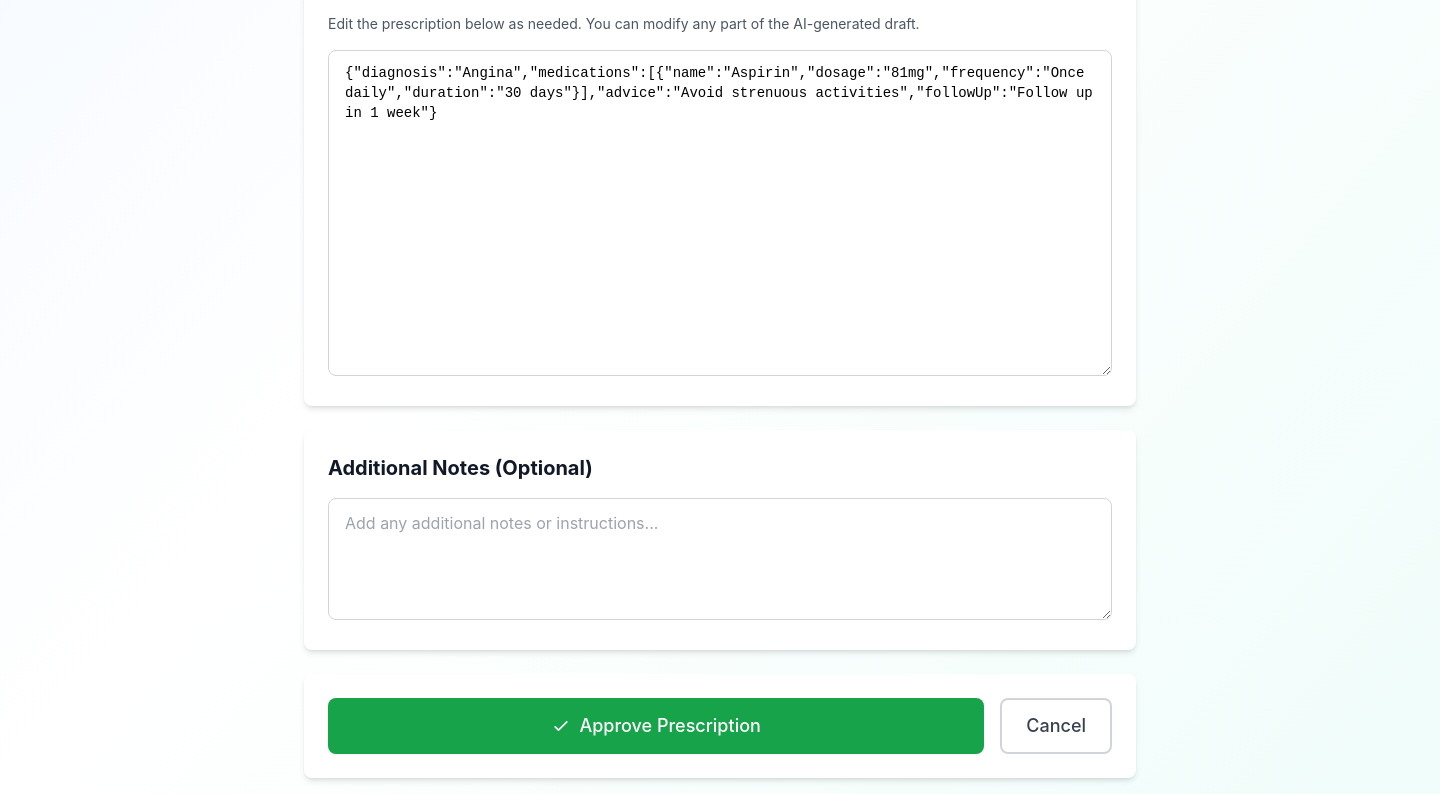
PrescriptionReviewForm Component › approves prescription successfully
(page scrolled)
Click the button "Approve Prescription" at (656, 726), box [328,698,984,754]
Wait 2000 ms
(page scrolled)
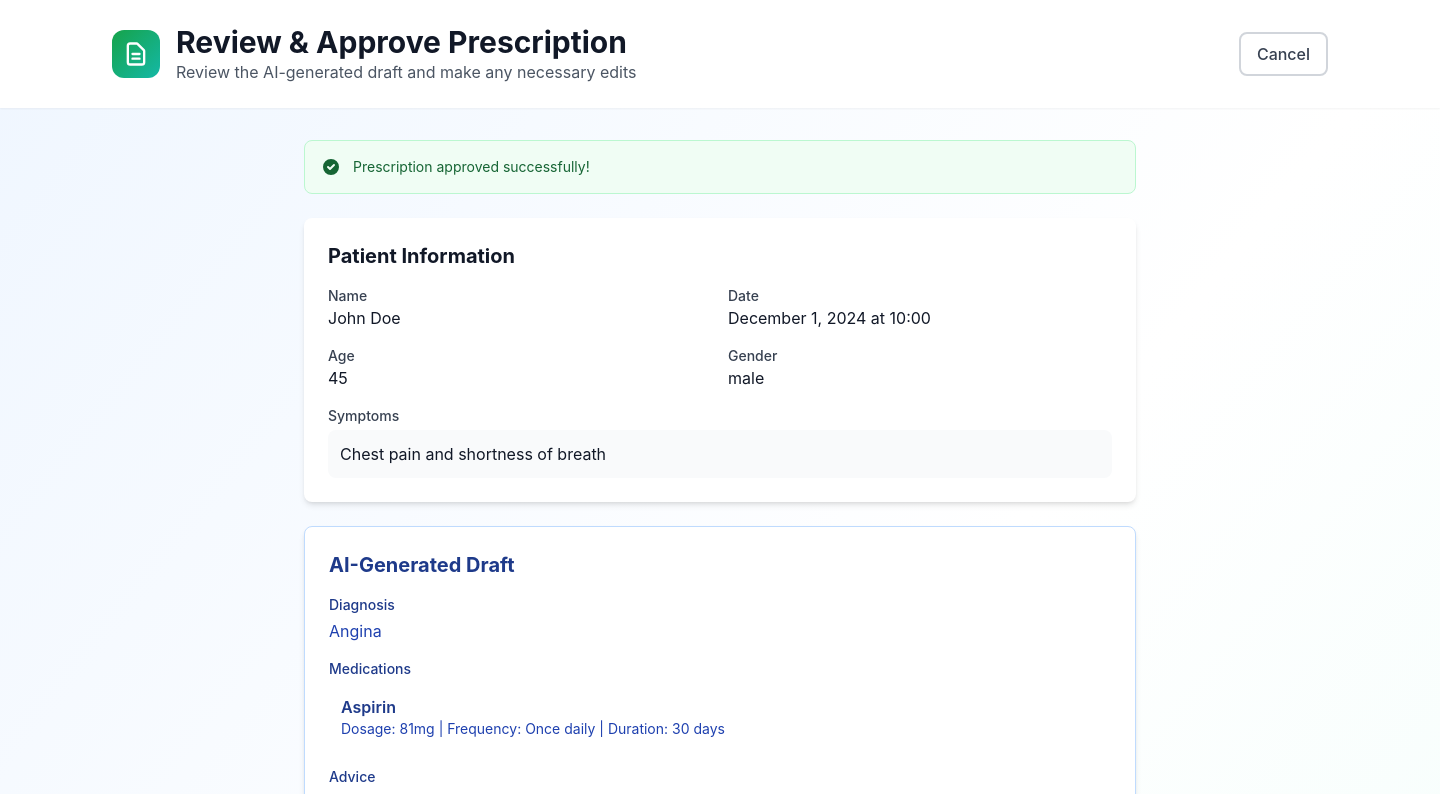
Result: the text "Prescription approved successfully!" is shown at [353,158,590,175]
